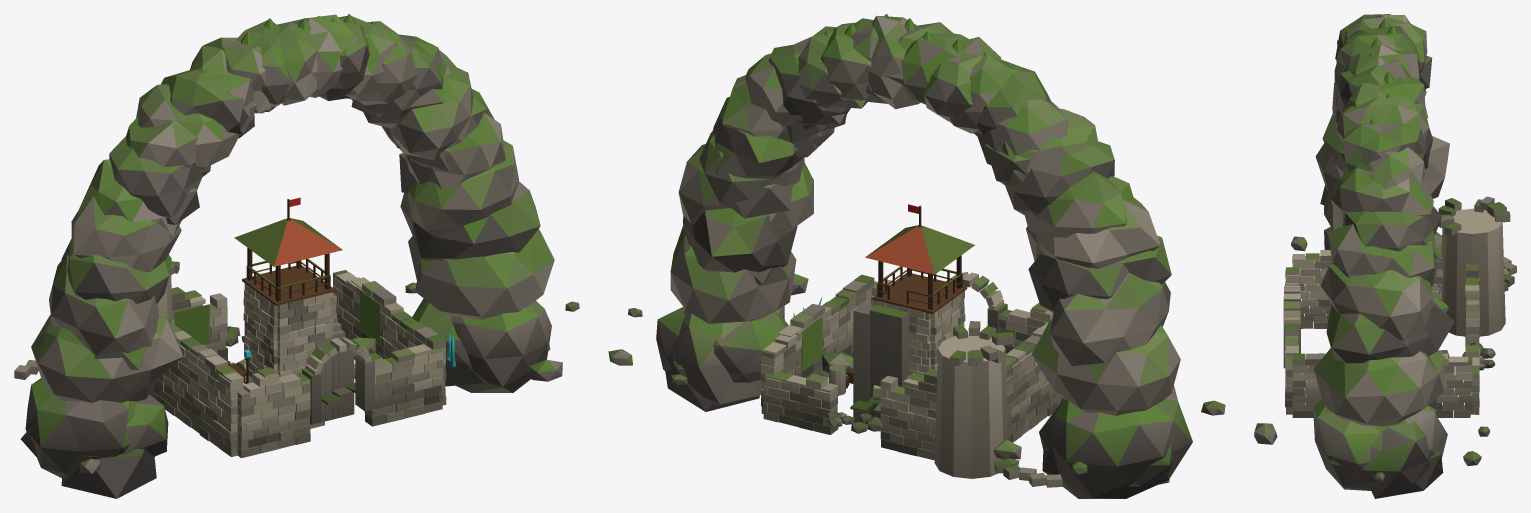
Rendered from sites_arcadia.glb.
The picture shows the model from 3 angles, left to right: view 1: azimuth 30°, elevation 25°; view 2: azimuth 150°, elevation 25°; view 3: azimuth 270°, elevation 25°; orthographic projection. The views are drawn at different scales.
Parts seen in each view (by area): view 1: a_arch, a_ruin, a_watchtower; view 2: a_arch, a_ruin, a_watchtower; view 3: a_arch, a_ruin.
Part boxes in pixels (x1,y1,x2,y2): a_arch: (21, 14, 579, 498); a_ruin: (14, 261, 446, 458); a_watchtower: (226, 197, 354, 428); a_arch: (608, 14, 1225, 498); a_ruin: (760, 272, 1062, 487); a_watchtower: (846, 204, 974, 423); a_arch: (1254, 14, 1490, 498); a_ruin: (1283, 196, 1516, 417).
Size of what is drawn, in the model's own units: 37.96 by 27.72 by 17.49.
